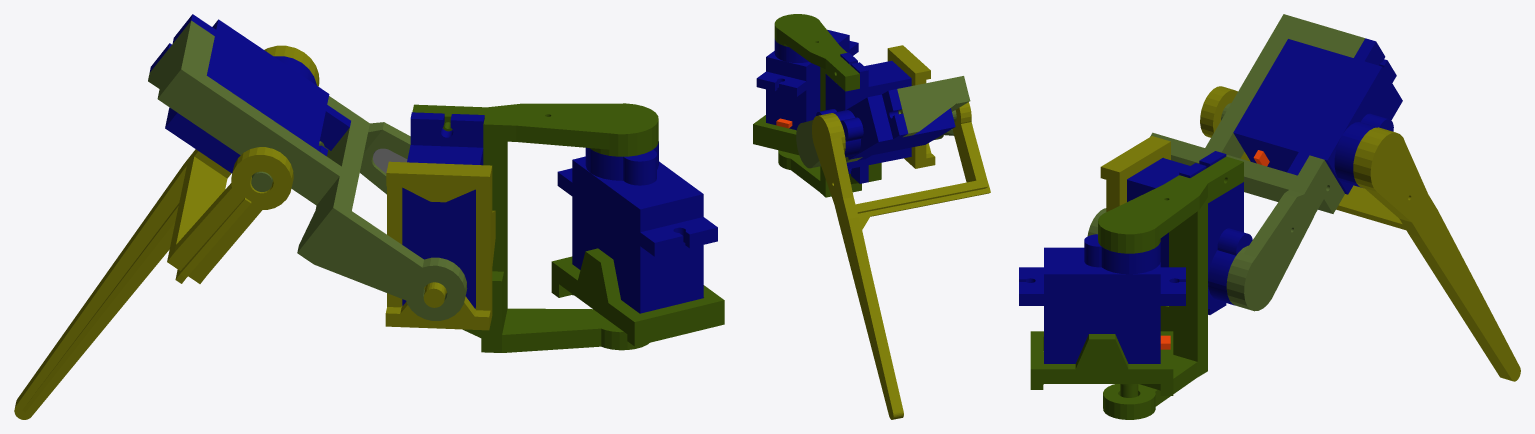
File: back-right-leg-whole.glb
The picture shows the model from 3 angles, left to right: view 1: azimuth 30°, elevation 25°; view 2: azimuth 150°, elevation 25°; view 3: azimuth 270°, elevation 25°; orthographic projection. The views are drawn at different scales.
Parts seen in each view (by area): view 1: 9g Servo (×3), object 2, object 3, object 5, object 10, object 1; view 2: 9g Servo (×3), object 3, object 5, object 2, object 10, object 1; view 3: 9g Servo (×3), object 2, object 5, object 3, object 1, object 10.
Part boxes in pixels (left/top/right/bottom): 9g Servo (×3): left=149, top=14, right=717, bottom=313; object 2: left=148, top=20, right=467, bottom=320; object 3: left=14, top=45, right=319, bottom=419; object 5: left=412, top=103, right=658, bottom=352; object 10: left=385, top=161, right=495, bottom=330; object 1: left=551, top=248, right=724, bottom=346; 9g Servo (×3): left=756, top=29, right=955, bottom=183; object 3: left=812, top=102, right=990, bottom=419; object 5: left=774, top=14, right=881, bottom=197; object 2: left=796, top=76, right=972, bottom=168; object 10: left=887, top=45, right=935, bottom=168; object 1: left=753, top=115, right=799, bottom=154; 9g Servo (×3): left=1019, top=38, right=1402, bottom=363; object 2: left=1087, top=14, right=1364, bottom=311; object 5: left=1098, top=156, right=1243, bottom=419; object 3: left=1200, top=86, right=1520, bottom=381; object 1: left=1030, top=331, right=1173, bottom=397; object 10: left=1100, top=136, right=1170, bottom=211.
Size of the model in its own units: 0.0826 by 0.0798 by 0.0966.
